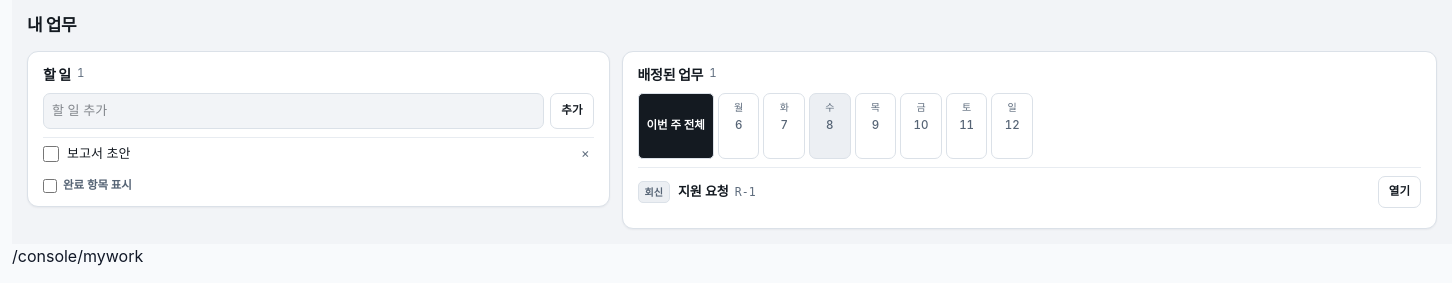
Test: MyWorkBody › routes a backend support_ticket link by its exact ticket id
The width and height of the screenshot is (1452, 283).
Click the button "열기": x=1399, y=192 [1378,176,1421,208]
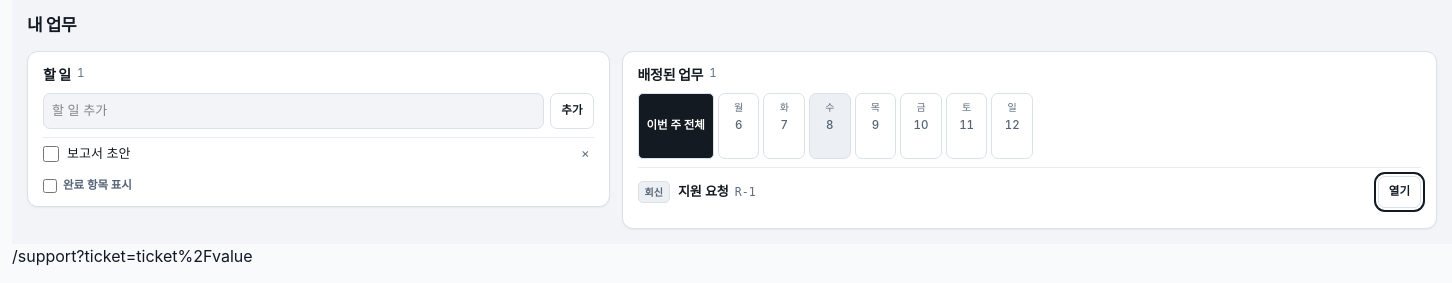
Now the text "/support?ticket=ticket%2Fvalue" is shown, box [12,246,252,266]
